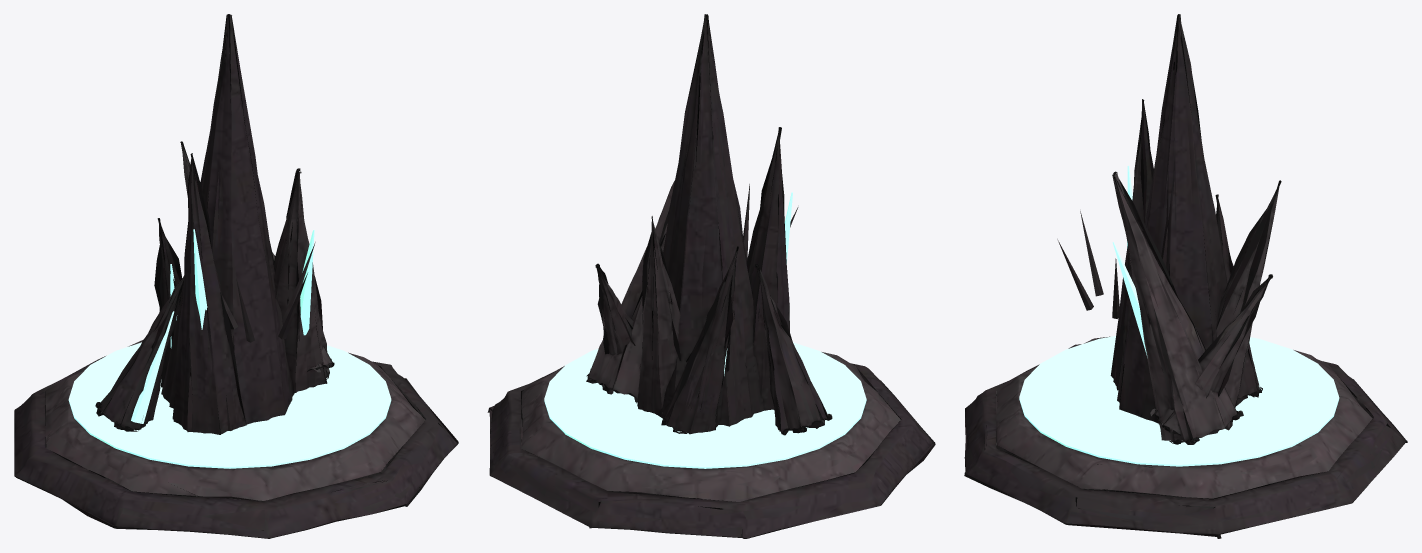
File: throneshard_duskward.glb
3 renders of one model, left to right at view 1: azimuth 30°, elevation 25°; view 2: azimuth 150°, elevation 25°; view 3: azimuth 270°, elevation 25°, orthographic.
Visible parts, largest first — view 1: body, glow; view 2: body, glow; view 3: body, glow.
Part boxes in pixels (box(x1,y1,x2,y2)): body: box(14, 14, 458, 538); glow: box(68, 229, 391, 468); body: box(487, 14, 935, 538); glow: box(544, 192, 866, 468); body: box(964, 14, 1407, 538); glow: box(1019, 165, 1339, 466).
Bounding box in the file's own units: 12.09 × 12.71 × 11.91.
Materials: 2 (1 with a texture image).
